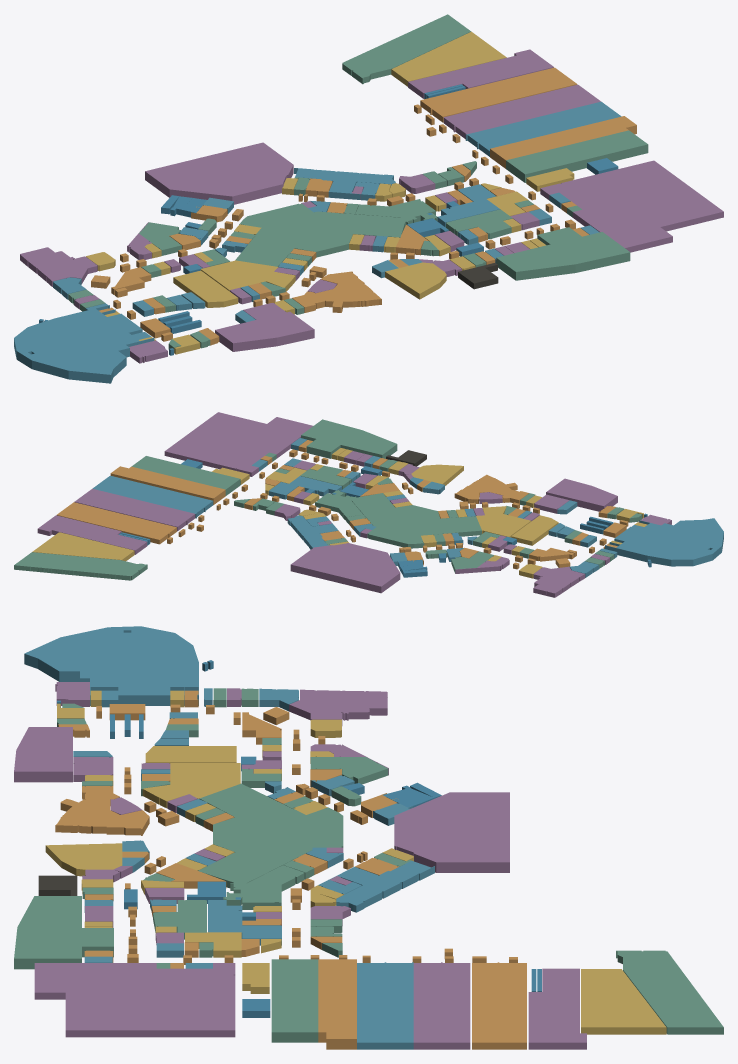
File: shopping-planta.gltf
The picture shows the model from 3 angles, top to bottom: view 1: azimuth 30°, elevation 25°; view 2: azimuth 150°, elevation 25°; view 3: azimuth 270°, elevation 25°; orthographic projection. The views are drawn at different scales.
Parts seen in each view (by area): view 1: Cinemark, Renner, Riachuelo, C&A, Marisa, MoroFit, STZ, Zig Zag Play, Biglar, Pernambucanas, Wow Park, BIG (+16 smaller); view 2: Cinemark, Renner, Riachuelo, C&A, MoroFit, Marisa, Zig Zag Play, Biglar, Pernambucanas, BIG, Wow Park, Avenida (+18 smaller); view 3: Cinemark, Renner, Riachuelo, C&A, Marisa, Biglar, Pernambucanas, MoroFit, Zig Zag Play, Wow Park, BIG, STZ (+19 smaller).
Boxes of the visible parts, x1,y1,x2,y2 form: Cinemark: (550,160,723,252); Renner: (14,305,154,383); Riachuelo: (235,203,437,266); C&A: (145,142,293,204); Marisa: (496,227,630,280); MoroFit: (342,14,470,84); STZ: (506,130,648,182); Zig Zag Play: (420,67,577,122); Biglar: (443,84,600,138); Pernambucanas: (465,101,621,156); Wow Park: (391,31,506,86); BIG: (408,49,553,98); Cinemark: (164,412,312,472); Renner: (605,518,723,566); Riachuelo: (327,490,481,548); C&A: (290,543,400,593); MoroFit: (14,552,147,580); Marisa: (301,419,397,458); Zig Zag Play: (57,502,176,544); Biglar: (74,488,195,531); Pernambucanas: (93,475,213,518); BIG: (37,515,147,554); Wow Park: (32,532,134,561); Avenida: (110,466,225,504); Cinemark: (34,963,235,1037); Renner: (24,626,198,705); Riachuelo: (198,783,343,909); C&A: (394,792,509,872); Marisa: (14,896,113,969); Biglar: (413,962,470,1049); Pernambucanas: (357,962,413,1049); MoroFit: (616,950,723,1034); Zig Zag Play: (472,962,526,1049); Wow Park: (581,969,666,1034); BIG: (528,968,586,1049); STZ: (271,959,318,1042).
Bounding box in the file's own units: 350 × 4.2 × 255.
